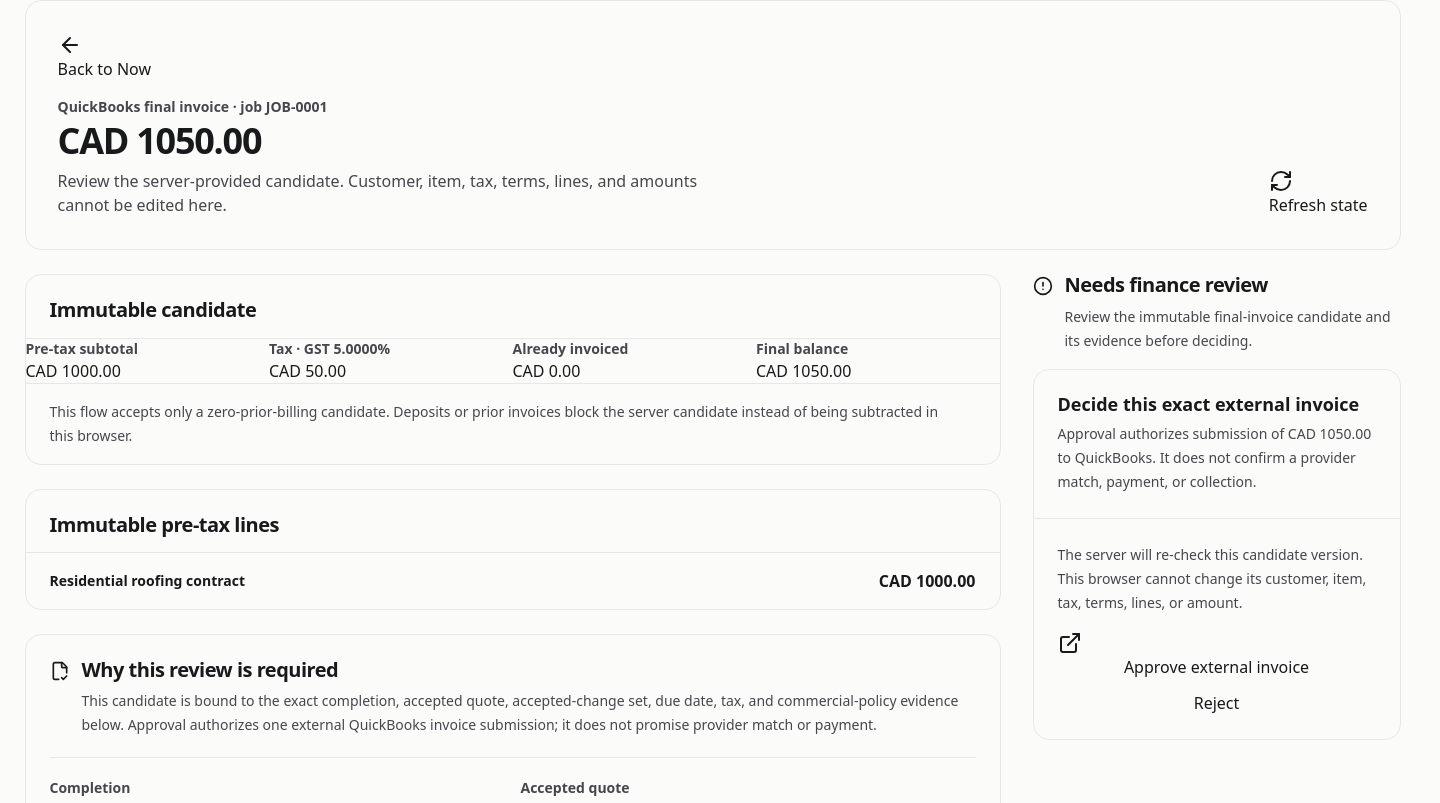
it: QuickBooks final-invoice page › shows a stale-version warning and requires current server state
The width and height of the screenshot is (1440, 803).
Step 1. Click the button "Approve external invoice" → (1216, 655), box x1=1058 y1=631 x2=1376 y2=679
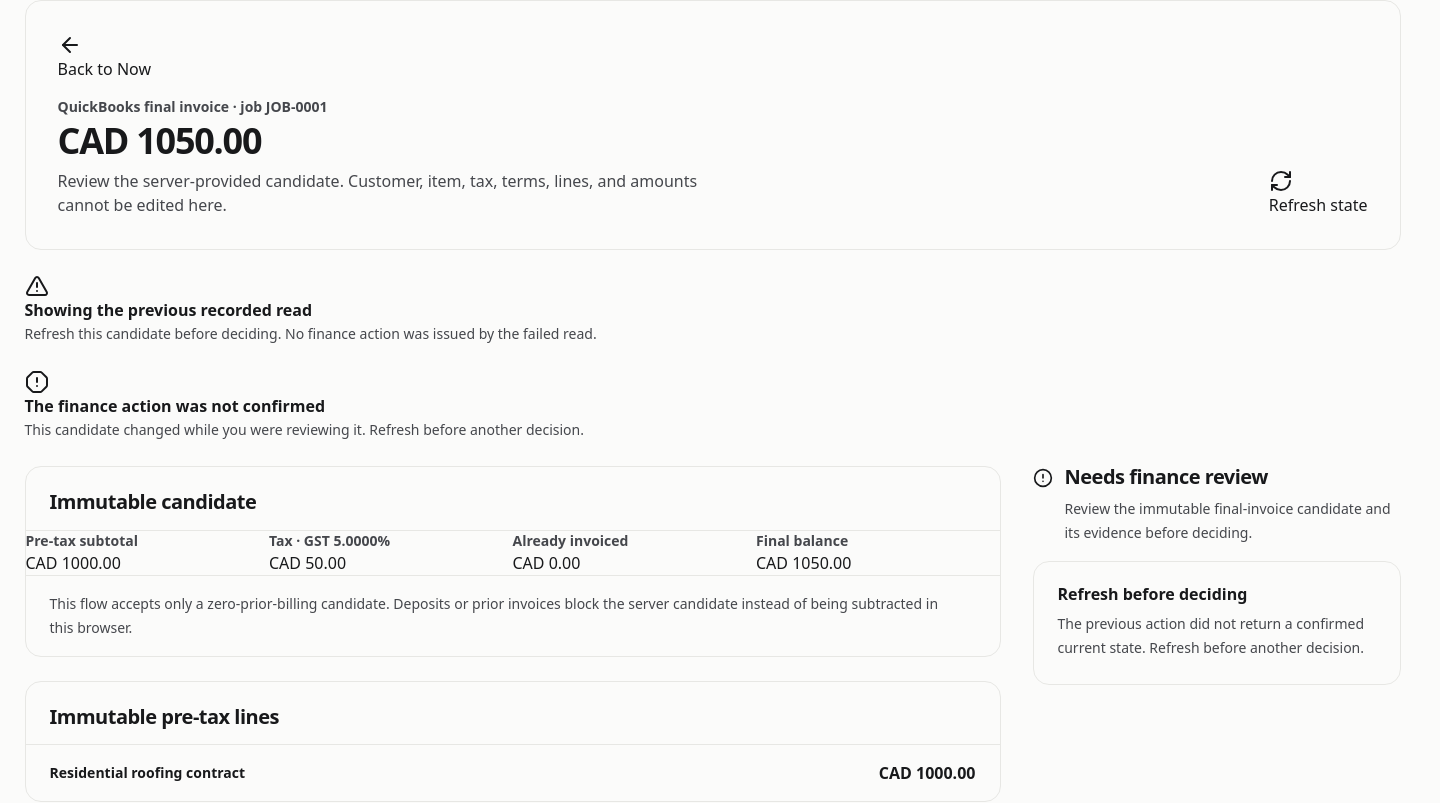
Expected: the text "changed while you were reviewing" is shown, x1=24 y1=420 x2=584 y2=439
Expected: the button "Approve external invoice" is gone
